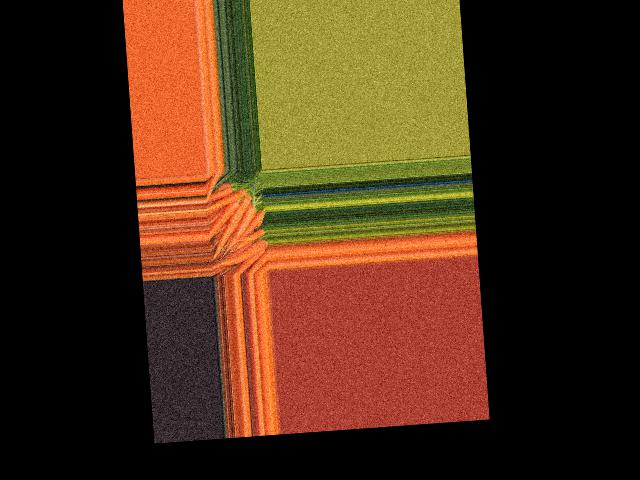carrot: (205, 201, 240, 239)
